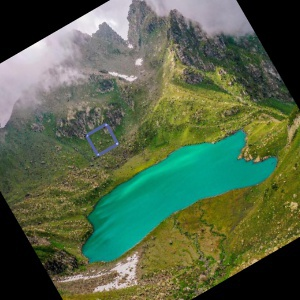square: (84, 122, 121, 158)
